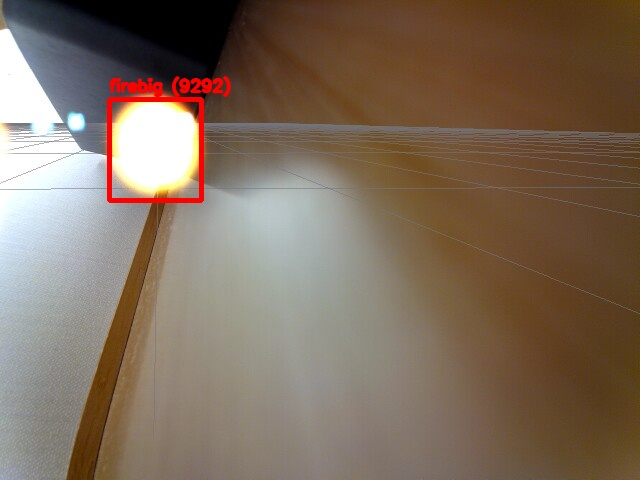firebig: (109, 99, 201, 200)
